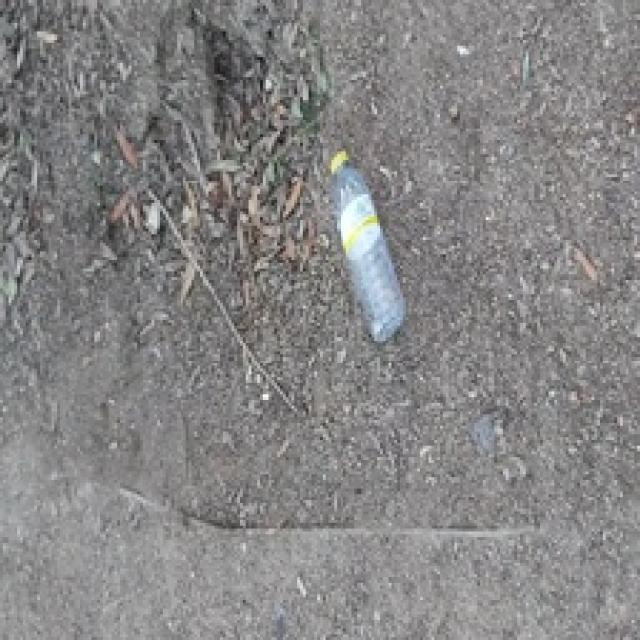Plastic: (324, 149, 411, 344)
